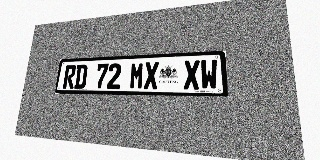2: (107, 63, 122, 89)
7: (94, 63, 109, 89)
D: (74, 64, 88, 89)
M: (129, 62, 144, 89)
R: (63, 65, 76, 89)
W: (200, 59, 218, 90)
X: (183, 60, 200, 89), (143, 61, 159, 89)
